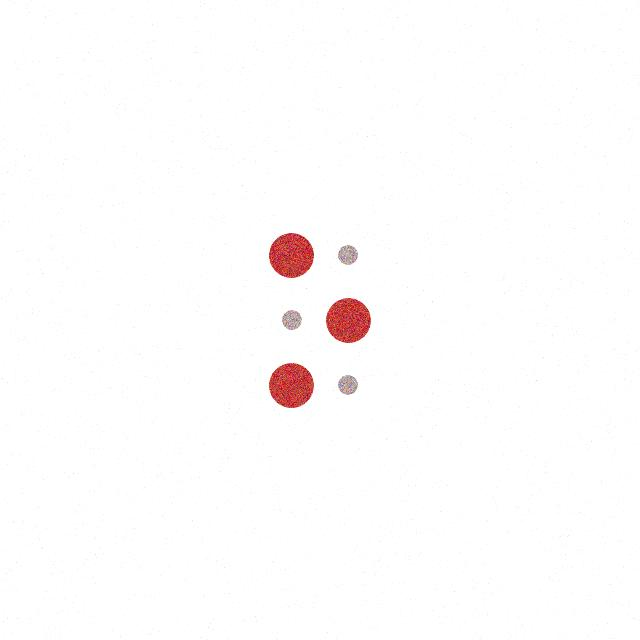O: (262, 228, 374, 414)
